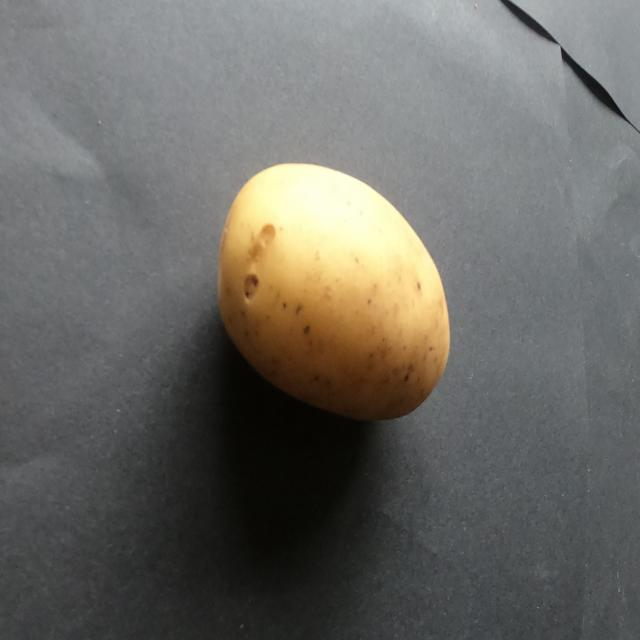Potato: (196, 142, 478, 473)
